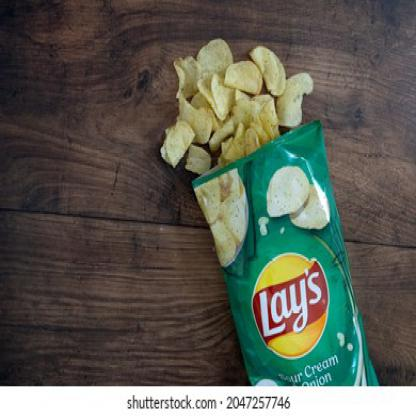potatochip: (195, 122, 388, 414)
